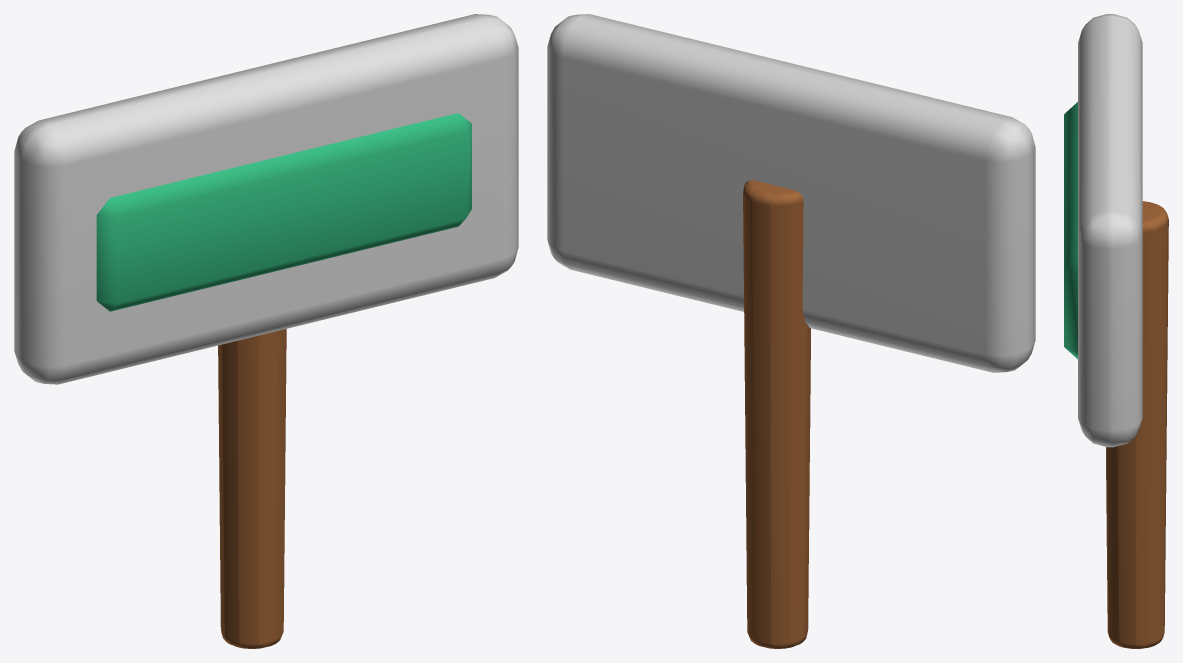
File: sale.glb
3 views of the same model, side by side, from view 1: azimuth 30°, elevation 25°; view 2: azimuth 150°, elevation 25°; view 3: azimuth 270°, elevation 25° (orthographic). The views are drawn at different scales.
Visible parts, largest first — view 1: Cone; view 2: Cone; view 3: Cone.
Part boxes in pixels (x1,y1,x2,y2): Cone: (14,14,518,648); Cone: (547,14,1035,648); Cone: (1064,14,1168,648).
Bounding box in the file's own units: 0.24 × 0.27 × 0.0487.
